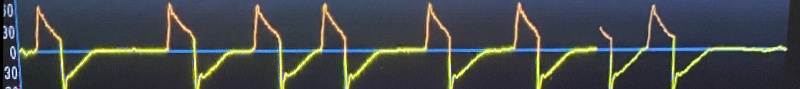normal_flow: (15, 0, 600, 89)
